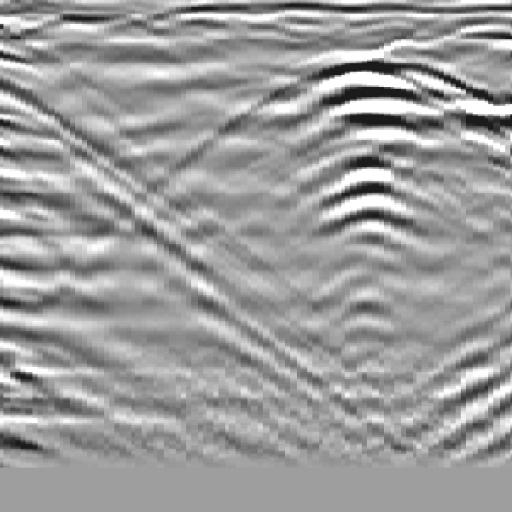non-metallic: (106, 25, 512, 351)
